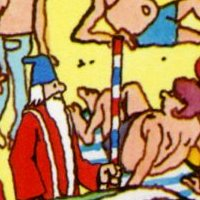wb: (21, 54, 75, 188)
